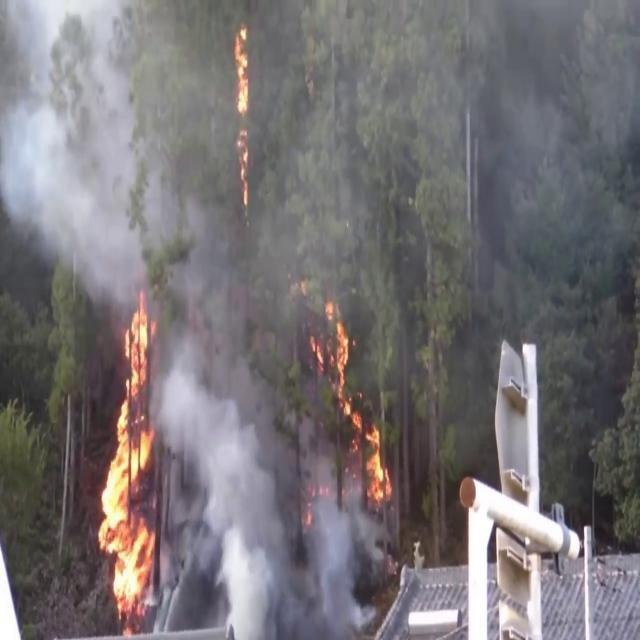Fire: (96, 290, 162, 602), (308, 274, 390, 502), (234, 5, 254, 195)
Smoke: (263, 0, 640, 282), (2, 0, 236, 319), (157, 232, 286, 640), (293, 447, 382, 640)
